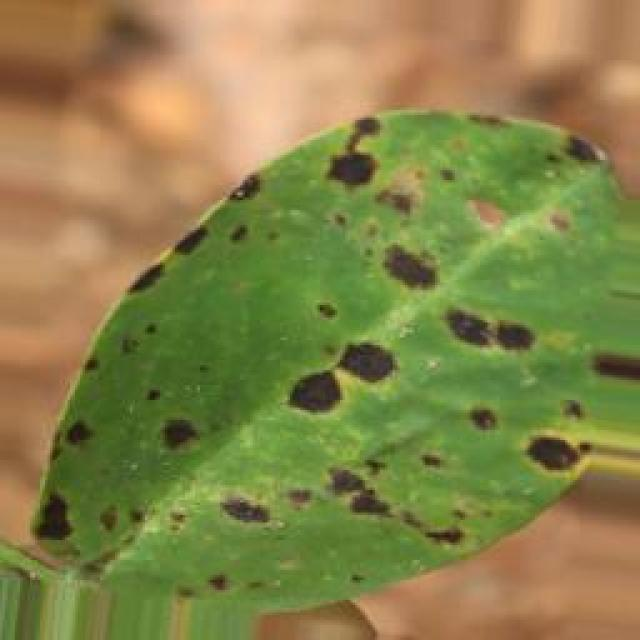Yellowish: (3, 65, 640, 614)
